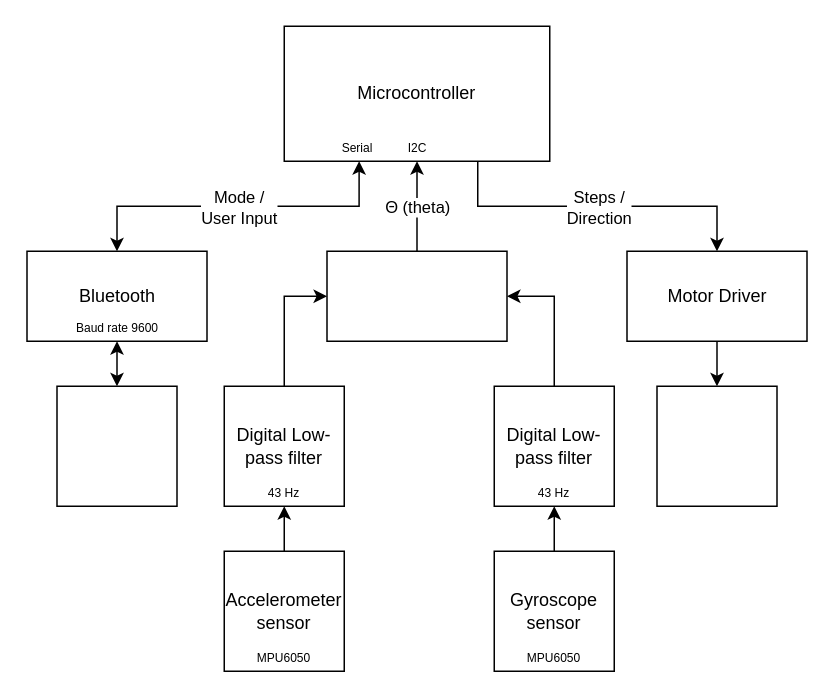
Some shapes in this 833 by 698 pixel diagram are drawn without their labels. The shapes that lost their labels are listed below. From the top down, each one's box as (x1, y1, x2, y2) in pixels, then its label:
(326, 250, 507, 341): Complementary Filter
(56, 385, 177, 506): MATLAB GUI
(656, 385, 777, 506): Stepper Motors
